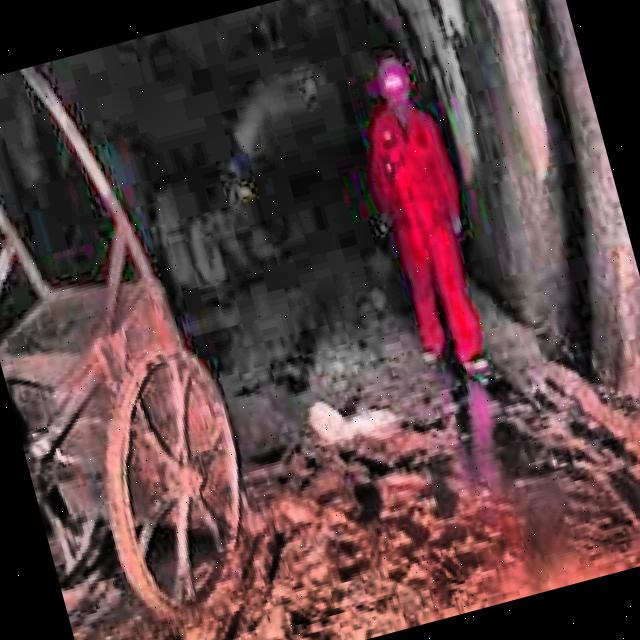helmet: (369, 47, 422, 121)
